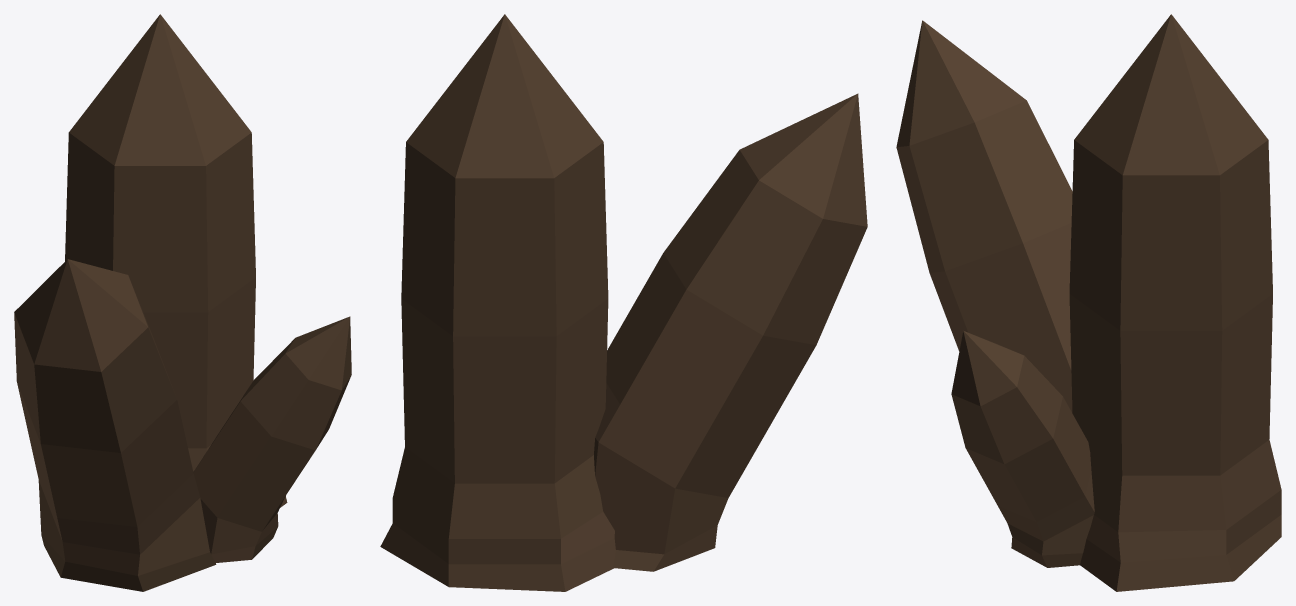
File: Rock_15_Dark_Brown.fbx
The picture shows the model from 3 angles, left to right: view 1: azimuth 30°, elevation 25°; view 2: azimuth 150°, elevation 25°; view 3: azimuth 270°, elevation 25°; orthographic projection. The views are drawn at different scales.
Visible parts, largest first — view 1: Rock_15_Dark_Brown_Part_1, Rock_15_Dark_Brown_Part_2, Rock_15_Dark_Brown_Part_3; view 2: Rock_15_Dark_Brown_Part_1, Rock_15_Dark_Brown_Part_2; view 3: Rock_15_Dark_Brown_Part_1, Rock_15_Dark_Brown_Part_2, Rock_15_Dark_Brown_Part_3.
Part boxes in pixels (x1,y1,x2,y2): Rock_15_Dark_Brown_Part_1: [65, 14, 287, 507]; Rock_15_Dark_Brown_Part_2: [14, 259, 216, 591]; Rock_15_Dark_Brown_Part_3: [193, 316, 351, 562]; Rock_15_Dark_Brown_Part_1: [380, 14, 615, 591]; Rock_15_Dark_Brown_Part_2: [594, 93, 867, 571]; Rock_15_Dark_Brown_Part_1: [1069, 14, 1281, 591]; Rock_15_Dark_Brown_Part_2: [896, 20, 1072, 412]; Rock_15_Dark_Brown_Part_3: [951, 331, 1094, 567].
Size of the model in its own units: 185 by 263 by 175.
